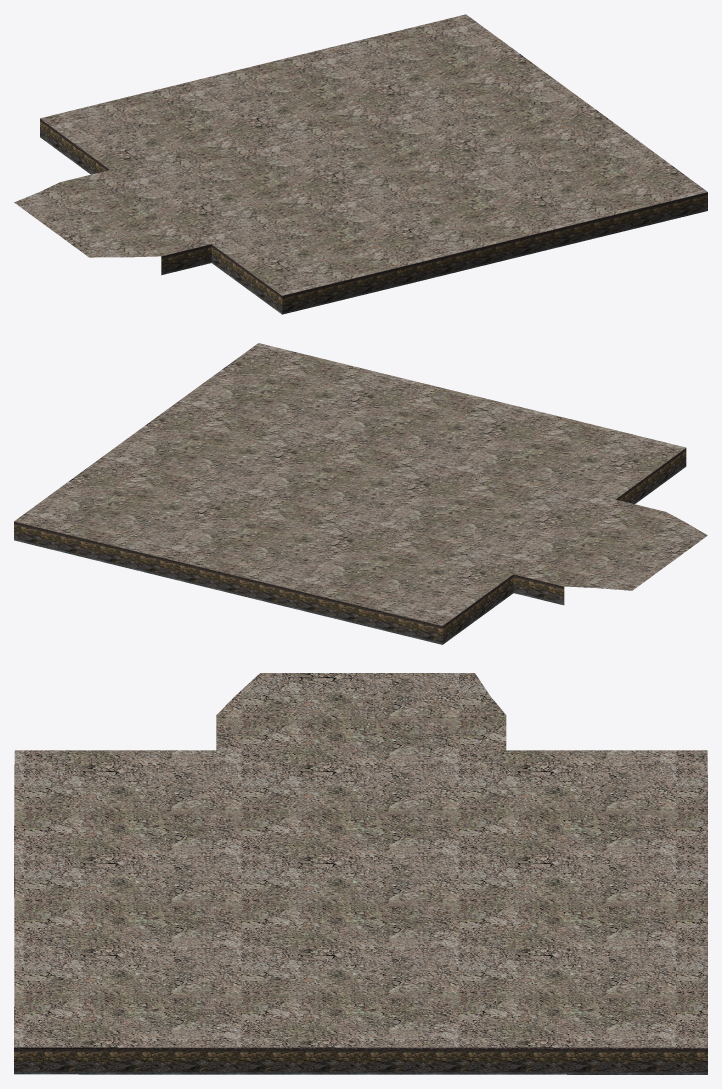
3 renders of one model, top to bottom at view 1: azimuth 30°, elevation 25°; view 2: azimuth 150°, elevation 25°; view 3: azimuth 270°, elevation 25°, orthographic. The views are drawn at different scales.
Parts seen in each view (by area): view 1: Object09; view 2: Object09; view 3: Object09.
Boxes of the visible parts, bbox=[...] form: Object09: bbox=[14, 14, 707, 314]; Object09: bbox=[14, 343, 707, 644]; Object09: bbox=[14, 673, 707, 1074].
Size of the model in its own units: 405 by 14.88 by 319.
